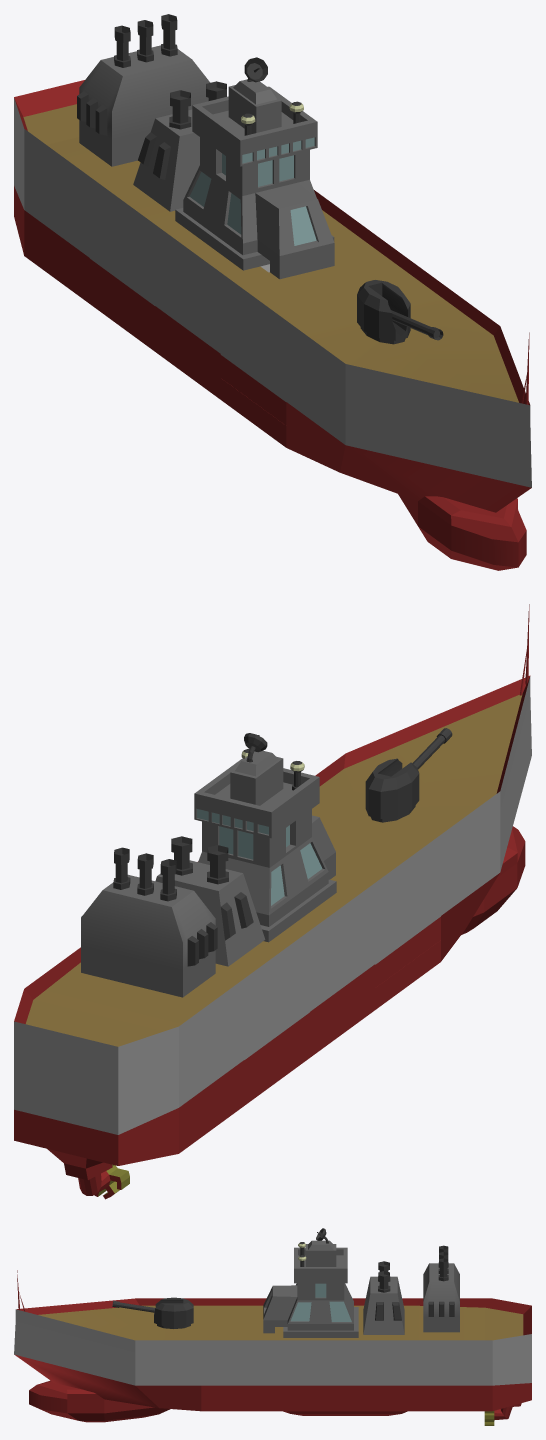
Rendered from Destroyer.fbx.
3 renders of one model, top to bottom at view 1: azimuth 30°, elevation 25°; view 2: azimuth 150°, elevation 25°; view 3: azimuth 270°, elevation 25°, orthographic. The views are drawn at different scales.
Visible parts, largest first — view 1: pCube1, pCube2, pCube4, pCube3, pCylinder13, pCylinder6; view 2: pCube1, pCube2, pCube4, pCube3, pCylinder13, pCylinder1, pCylinder6, pCylinder5; view 3: pCube1, pCube2, pCube4, pCube3, pCylinder13, pCylinder1, pCylinder12.
Part boxes in pixels (<box>): pCube1: <box>14,80,531,570</box>; pCube2: <box>175,79,334,279</box>; pCube4: <box>77,45,210,166</box>; pCube3: <box>133,109,199,211</box>; pCylinder13: <box>357,280,410,344</box>; pCylinder6: <box>169,90,191,129</box>; pCube1: <box>14,675,531,1180</box>; pCube2: <box>194,750,336,942</box>; pCube4: <box>81,874,217,997</box>; pCube3: <box>155,860,265,966</box>; pCylinder13: <box>365,758,419,822</box>; pCylinder1: <box>78,1164,129,1199</box>; pCylinder6: <box>207,845,228,884</box>; pCylinder5: <box>171,836,192,875</box>; pCube1: <box>14,1298,531,1422</box>; pCube2: <box>263,1240,358,1337</box>; pCube4: <box>423,1263,459,1332</box>; pCube3: <box>363,1276,404,1334</box>; pCylinder13: <box>154,1297,193,1328</box>; pCylinder1: <box>484,1407,512,1425</box>; pCylinder12: <box>112,1300,154,1312</box>.
Bounding box in the file's own units: 7.92 × 17.23 × 41.3.
